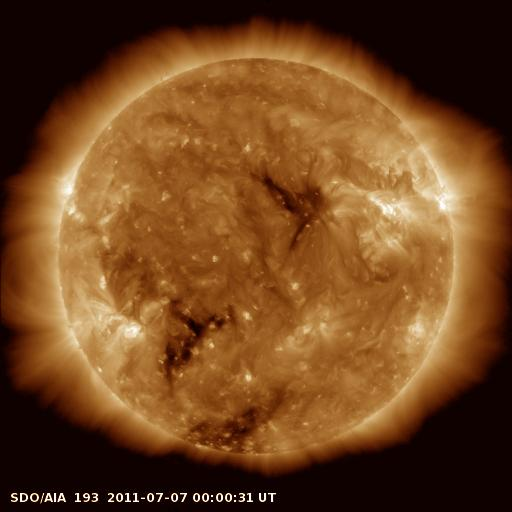coronal_hole: (156, 296, 238, 388), (253, 163, 324, 257), (181, 401, 284, 455)
